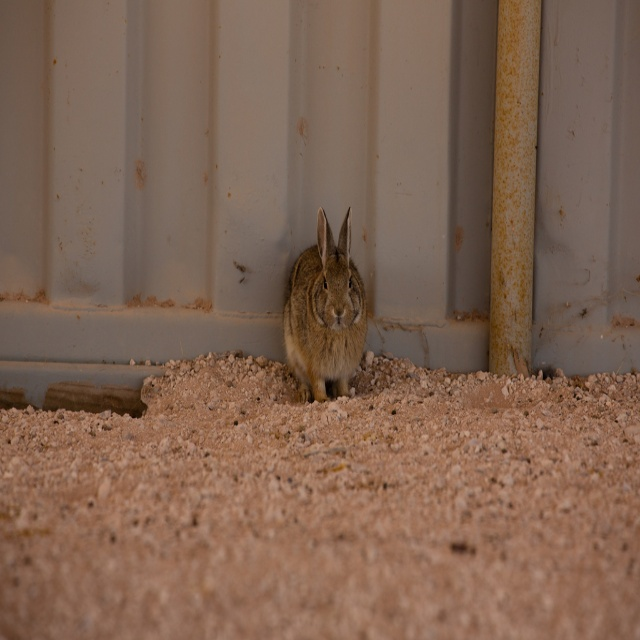Rabbit: (283, 207, 379, 400)
